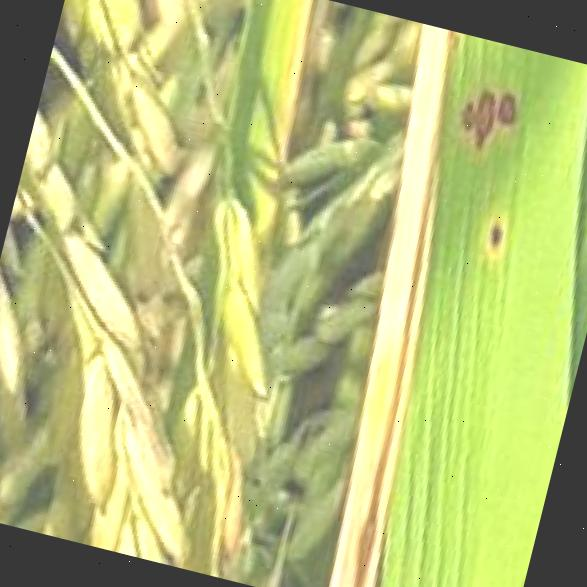Brown_Spot: (444, 55, 542, 156), (466, 197, 526, 264)
